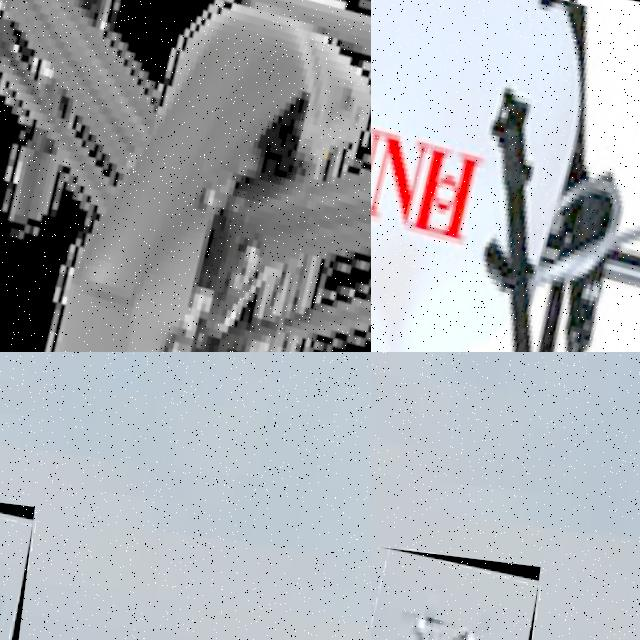0: (371, 546, 540, 640)
drone: (0, 0, 371, 352), (371, 0, 640, 352)
